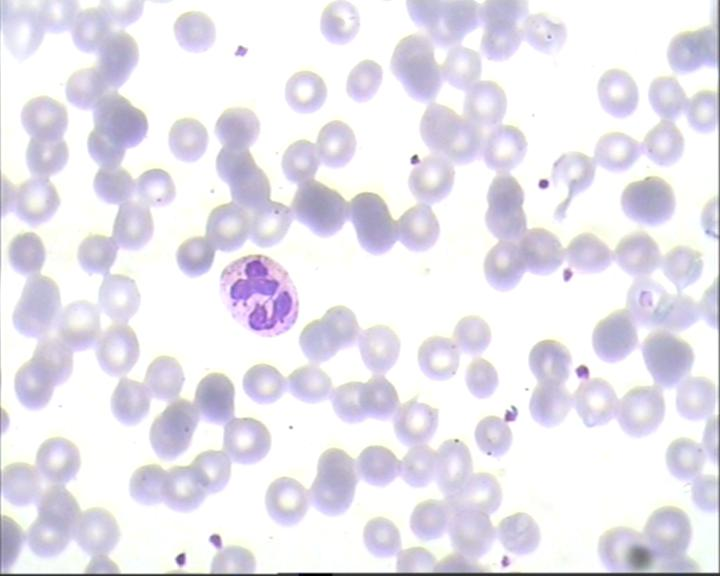neut: (219, 247, 307, 340)
